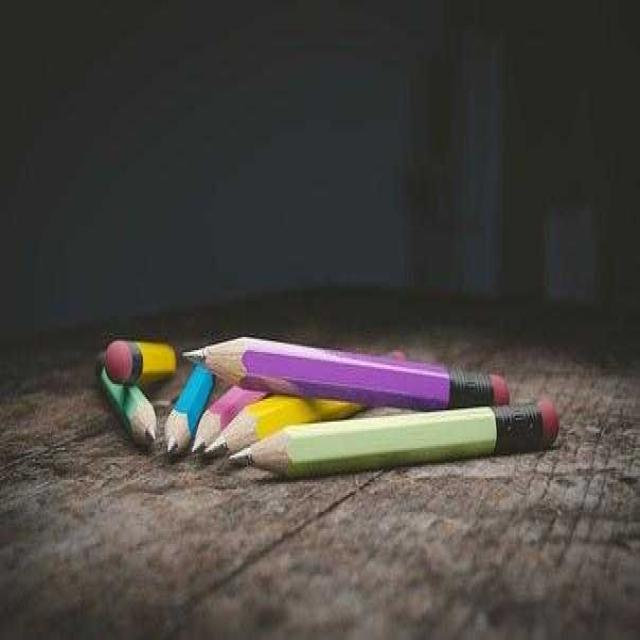pencil: (220, 387, 563, 498), (176, 319, 518, 416), (198, 391, 367, 461), (85, 338, 160, 451), (186, 382, 271, 460), (162, 352, 220, 463), (100, 332, 184, 392)
